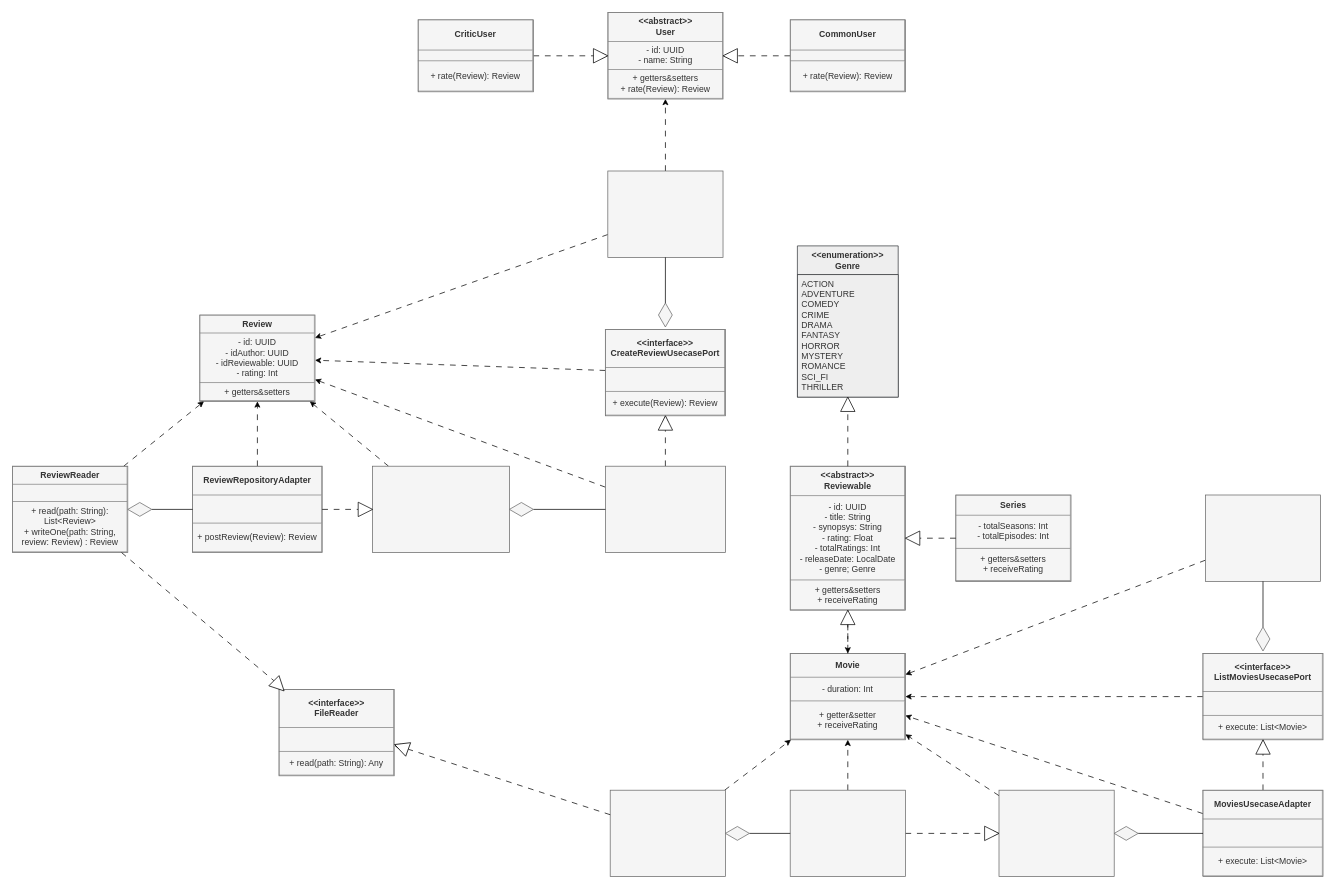
Some shapes in this 1336 by 889 pixel diagram are drawn without their labels. Each missing label, with the box of its shape:
<<interface>> MovieRepositoryPort + fetchMovies: List<Movie>: (998, 789, 1114, 877)
<<interface>> ReviewRepositoryPort + postReview(Review): Review: (372, 465, 509, 553)
MovieController + listMovies: List<Movie>: (1205, 494, 1321, 581)
MovieReader + read(path: String): List<Movie>: (609, 789, 725, 877)
MovieRepositoryAdapter + fetchMovies: List<Movie>: (789, 789, 905, 877)
ReviewController +reviewMovie: Review: (607, 170, 723, 257)
ReviewUsecaseAdapter + execute(Review): Review: (605, 465, 725, 553)
